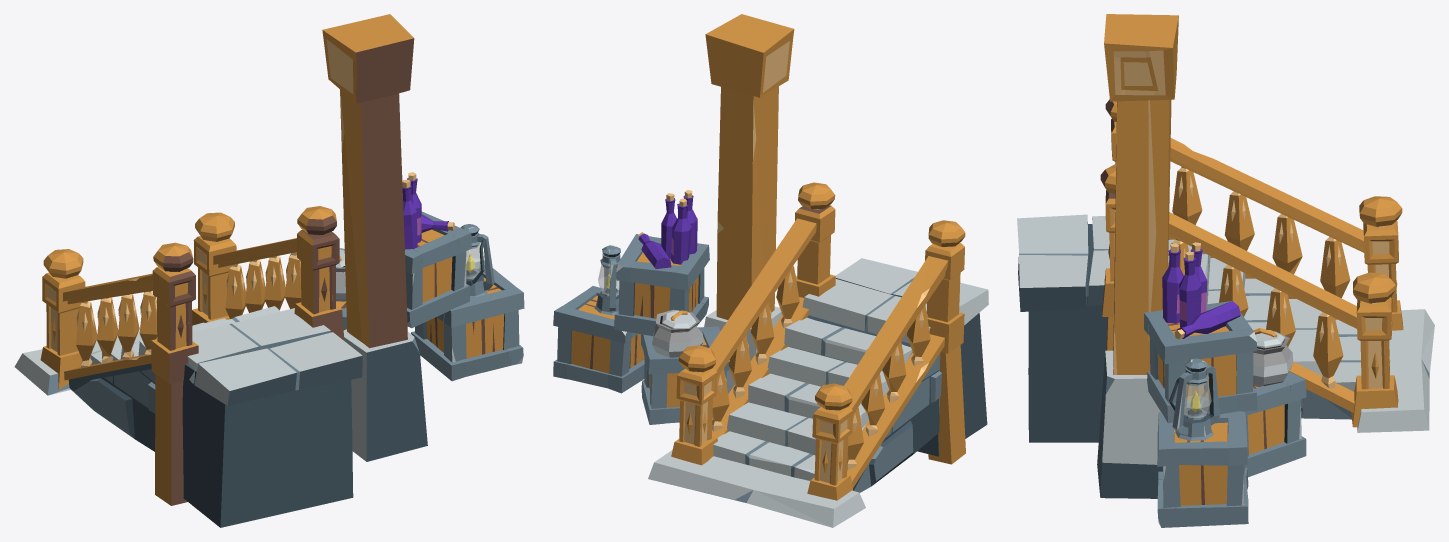
File: tavern-stairs-by-nick-slough-3HYNBmX103O.glb
The picture shows the model from 3 angles, left to right: view 1: azimuth 30°, elevation 25°; view 2: azimuth 150°, elevation 25°; view 3: azimuth 270°, elevation 25°; orthographic projection. The views are drawn at different scales.
Parts seen in each view (by area): view 1: group1480383765, group950387495, group1868020864, group1071117106, group747927410, group428056493, group1248452079, group1919482083, group1482380847, group976322198; view 2: group1071117106, group1480383765, group1868020864, group747927410, group428056493, group1919482083, group1581084696, group1248452079, group950387495, group1429652333, group1482380847, group880162740 (+2 smaller); view 3: group1480383765, group747927410, group1868020864, group1071117106, group950387495, group428056493, group1919482083, group1248452079, group1581084696, group1482380847, group1429652333, group381701414 (+3 smaller).
Part boxes in pixels (x1,y1,x2,y2): group1480383765: (322, 14, 427, 461); group950387495: (182, 364, 353, 527); group1868020864: (40, 242, 198, 389); group1071117106: (14, 306, 331, 505); group747927410: (192, 206, 344, 340); group428056493: (411, 261, 524, 381); group1248452079: (194, 332, 362, 405); group1919482083: (405, 211, 471, 328); group1482380847: (460, 224, 494, 298); group976322198: (402, 179, 417, 249); group1071117106: (648, 279, 965, 527); group1480383765: (704, 14, 794, 393); group1868020864: (807, 220, 965, 500); group747927410: (671, 182, 835, 465); group428056493: (553, 286, 644, 393); group1919482083: (614, 234, 709, 336); group1581084696: (641, 326, 729, 424); group1248452079: (835, 258, 988, 325); group950387495: (917, 313, 987, 456); group1429652333: (652, 309, 703, 357); group1482380847: (594, 245, 620, 315); group880162740: (671, 198, 691, 264); group1480383765: (1097, 14, 1178, 498); group747927410: (1100, 164, 1398, 427); group1868020864: (1105, 99, 1403, 330); group1071117106: (1088, 216, 1434, 432); group950387495: (1028, 224, 1107, 442); group428056493: (1157, 411, 1248, 527); group1919482083: (1144, 301, 1257, 423); group1248452079: (1017, 214, 1088, 311); group1581084696: (1242, 371, 1306, 477); group1482380847: (1169, 358, 1220, 440); group1429652333: (1253, 328, 1293, 386); group381701414: (1179, 251, 1201, 327).
Bounding box in the file's own units: 2.84 × 2.89 × 2.43.
